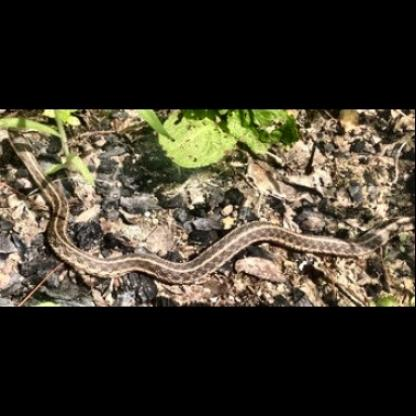Snake: (9, 212, 413, 310)
